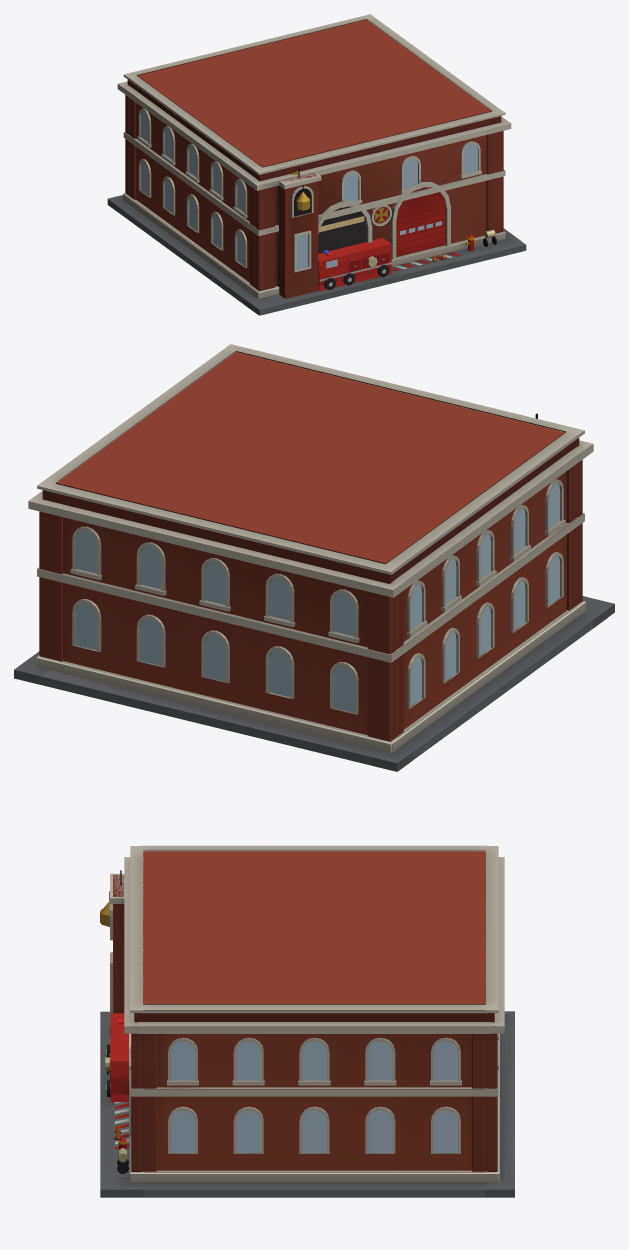
The model's file is BlazeOstrichFloor.fbx.
3 views of the same model, one above another, from view 1: azimuth 30°, elevation 25°; view 2: azimuth 150°, elevation 25°; view 3: azimuth 270°, elevation 25° (orthographic). The views are drawn at different scales.
Visible parts, largest first — view 1: FH_S_All, FH_F_Rings, FH_F_Smooth, FH_F_Glass, FH_F_Quiet, FH_F_Props; view 2: FH_F_Rings, FH_S_All, FH_F_Smooth, FH_F_Glass, FH_F_Quiet; view 3: FH_S_All, FH_F_Rings, FH_F_Smooth, FH_F_Glass, FH_F_Quiet, FH_F_Props.
Part boxes in pixels (x1,y1,x2,y2): FH_S_All: [108, 19, 498, 311]; FH_F_Rings: [118, 14, 510, 299]; FH_F_Smooth: [107, 15, 526, 315]; FH_F_Glass: [141, 111, 477, 268]; FH_F_Quiet: [108, 195, 525, 309]; FH_F_Props: [296, 192, 487, 289]; FH_F_Rings: [29, 344, 592, 753]; FH_S_All: [14, 352, 607, 771]; FH_F_Smooth: [14, 345, 614, 771]; FH_F_Glass: [76, 483, 559, 712]; FH_F_Quiet: [14, 596, 614, 762]; FH_S_All: [111, 851, 514, 1197]; FH_F_Rings: [110, 845, 504, 1173]; FH_F_Smooth: [100, 870, 514, 1197]; FH_F_Glass: [117, 1019, 457, 1152]; FH_F_Quiet: [100, 1011, 514, 1189]; FH_F_Props: [100, 901, 128, 1162].
Bounding box in the file's own units: 60 × 20 × 60.
